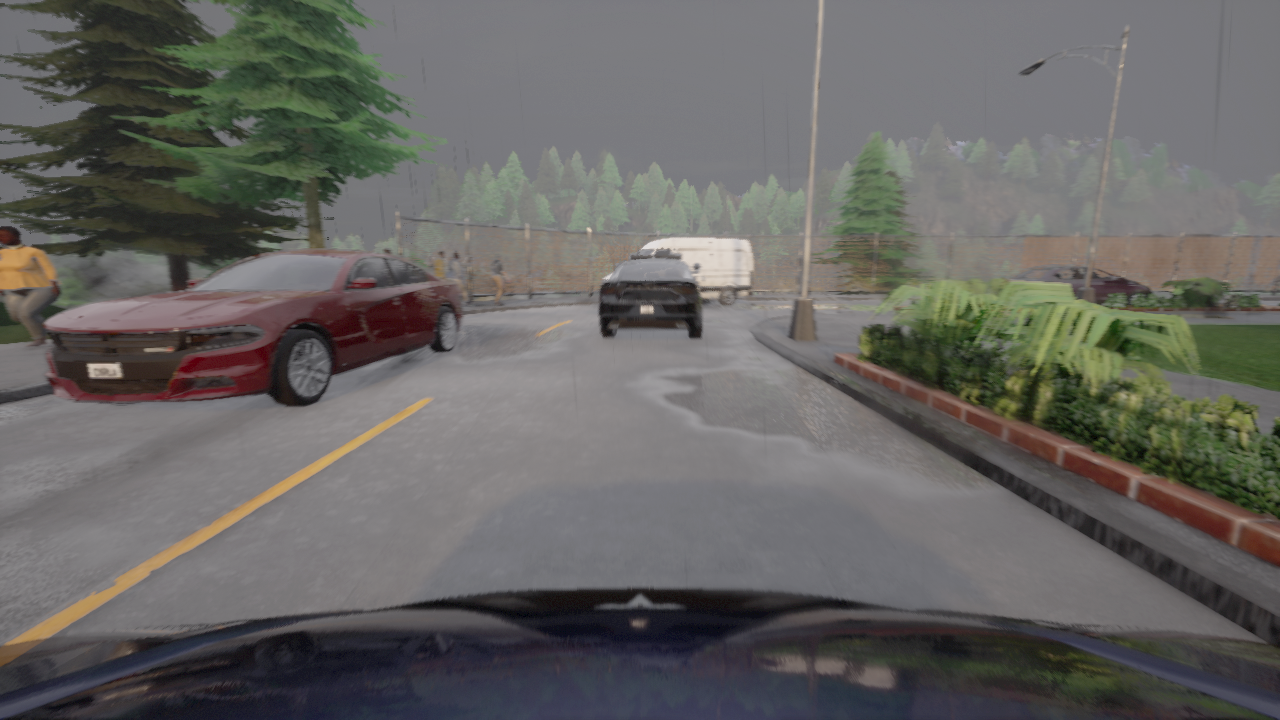cyclist: (0, 588, 1279, 719), (44, 249, 461, 405), (601, 237, 752, 305), (599, 253, 703, 337), (1008, 266, 1153, 305)
pedestrian: (0, 227, 61, 346), (446, 252, 471, 304), (491, 253, 509, 304), (433, 249, 447, 279), (383, 248, 392, 254)
